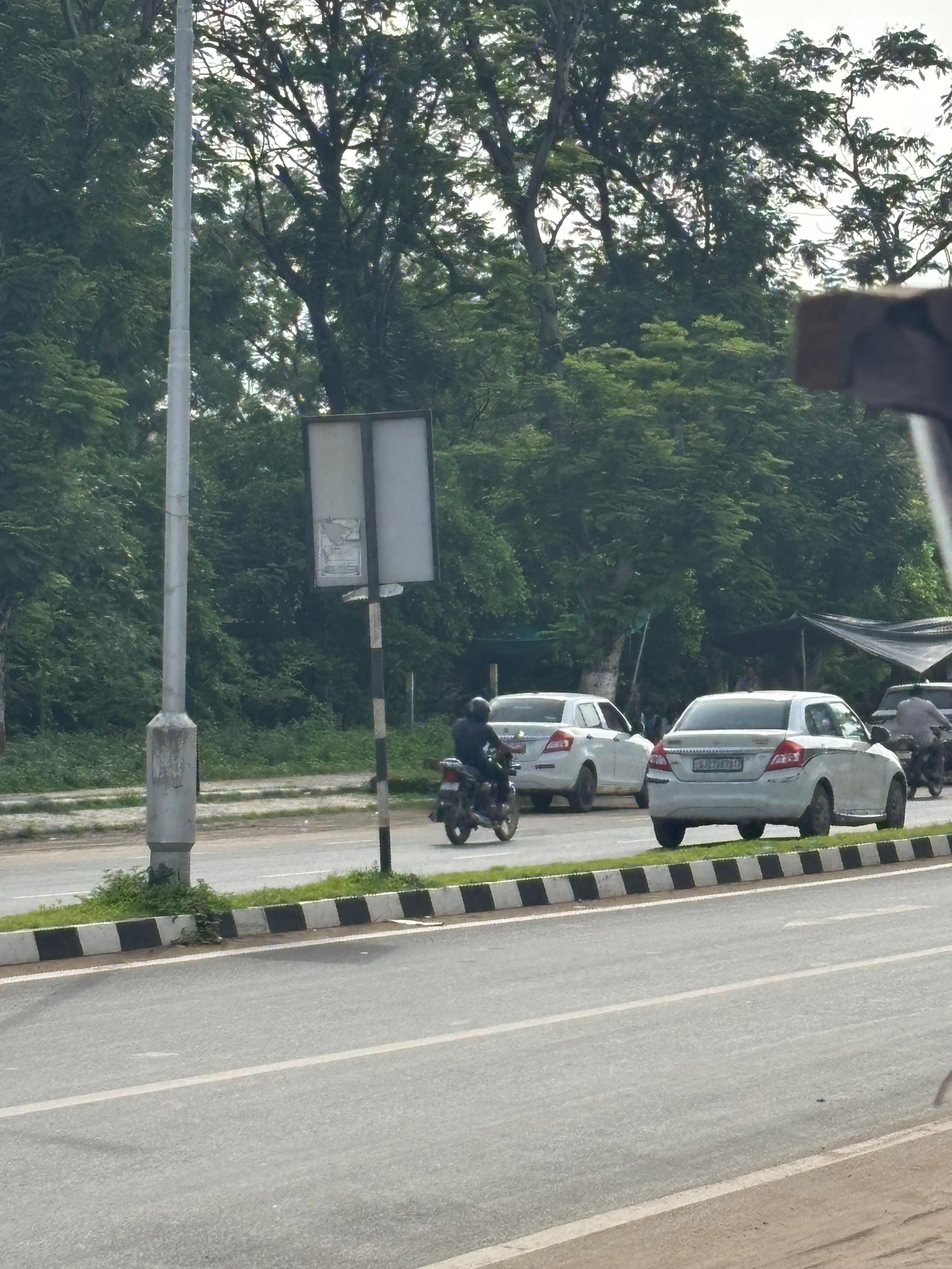BikeWithRider: (424, 690, 528, 849), (883, 675, 952, 804)
Helmet: (464, 691, 494, 723)
NoHelmet: (904, 678, 932, 704)
